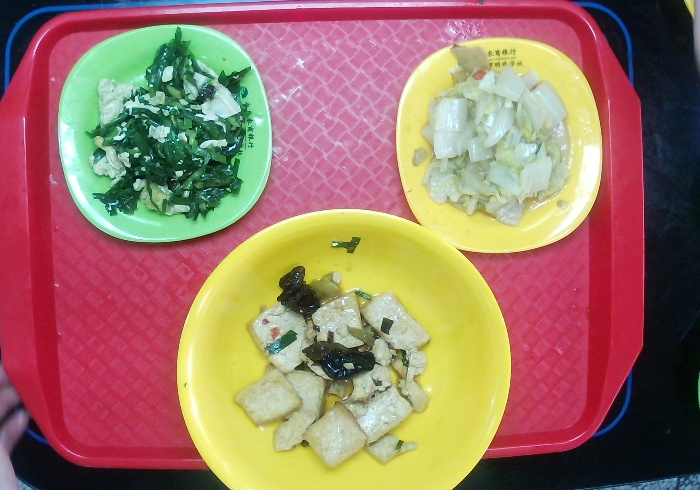YKMZ-Huang_Se_Fang_Die: (390, 35, 603, 258)
YKMZ-Huang_Se_Tang_Wan: (174, 206, 515, 490)
YKMZ-Lv_Se_Fang_Die: (55, 22, 273, 243)
